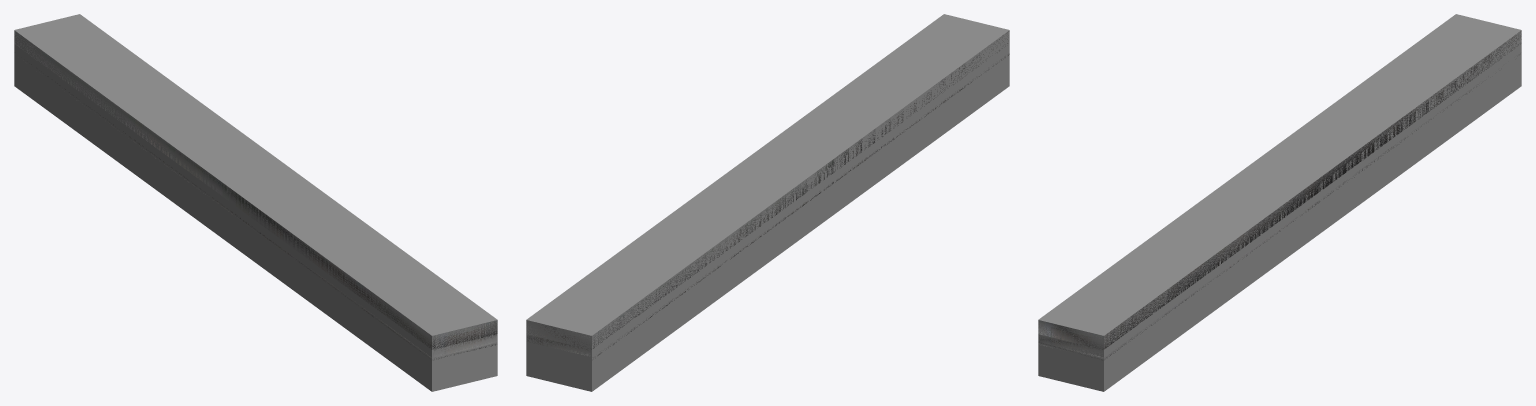
File: flourescent_light.FBX
3 views of the same model, side by side, from view 1: azimuth 30°, elevation 25°; view 2: azimuth 150°, elevation 25°; view 3: azimuth 330°, elevation 25° (orthographic).
Visible parts, largest first — view 1: bounds, flourescent_light_one100; view 2: bounds, flourescent_light_one100; view 3: bounds, flourescent_light_one100.
Part boxes in pixels (box(x1,y1,x2,y2)): bounds: box(14, 14, 497, 391); flourescent_light_one100: box(14, 31, 497, 360); bounds: box(526, 14, 1009, 391); flourescent_light_one100: box(526, 31, 1009, 357); bounds: box(1038, 14, 1521, 391); flourescent_light_one100: box(1038, 31, 1521, 360).
Bounding box in the file's own units: 16.63 × 13.55 × 183.
